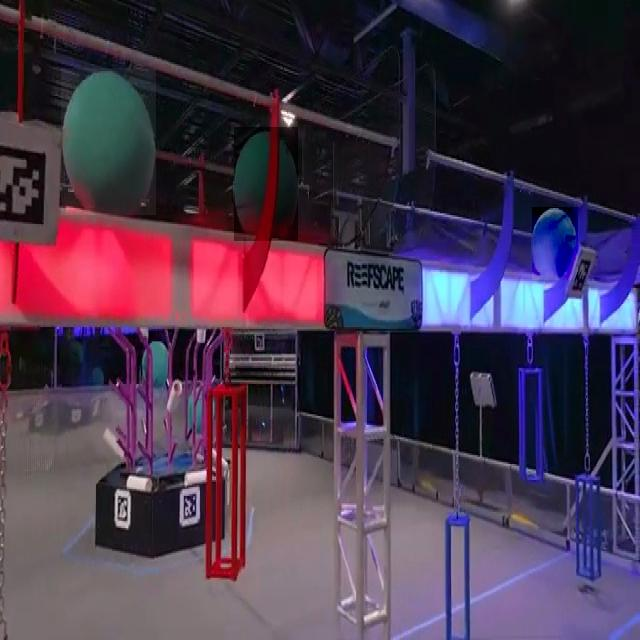Algae: (61, 68, 156, 215), (234, 127, 298, 241), (532, 207, 578, 280)
